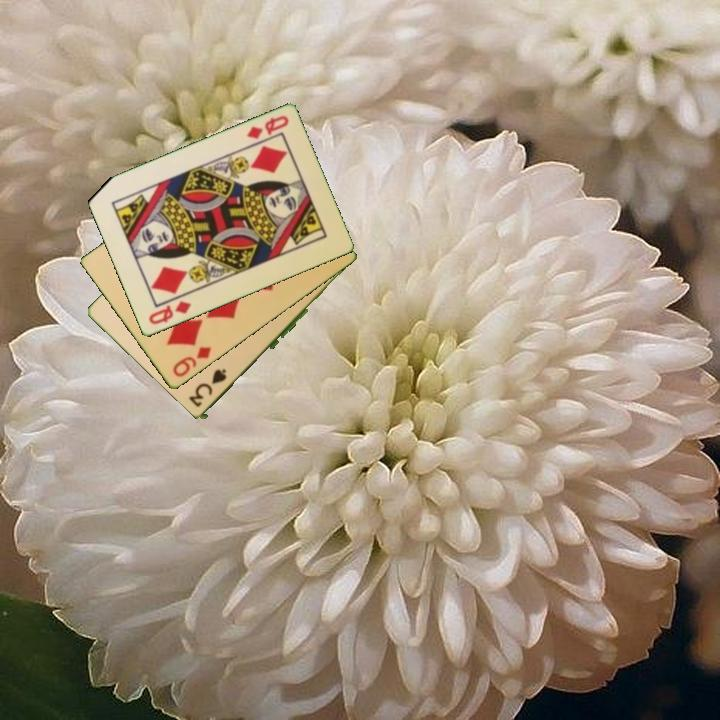3s: (187, 365, 230, 411)
9d: (169, 343, 214, 380)
Qd: (145, 297, 194, 328), (243, 112, 292, 143)
